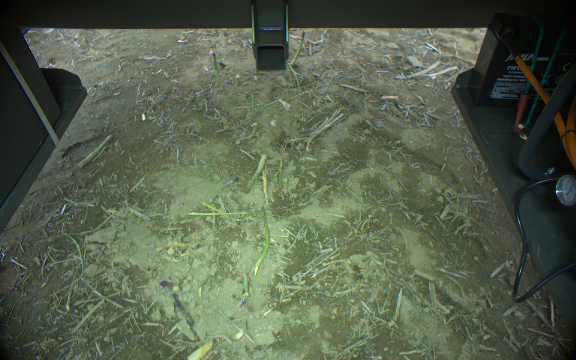aspa: (252, 205, 270, 274), (245, 154, 267, 187), (290, 31, 306, 67), (212, 52, 221, 87), (222, 174, 239, 190)
